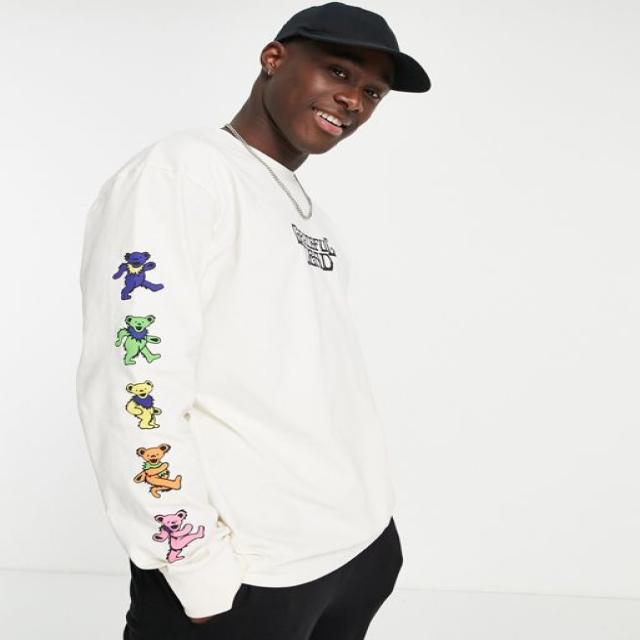tshirt: (74, 123, 399, 610)
